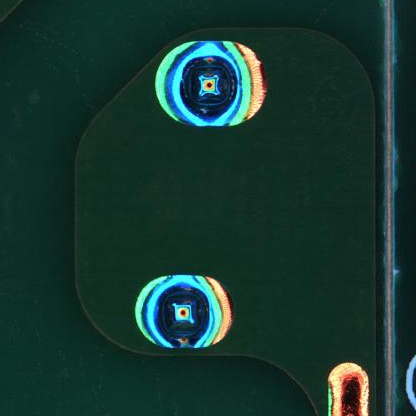spot: (145, 34, 274, 136), (125, 264, 246, 361)
